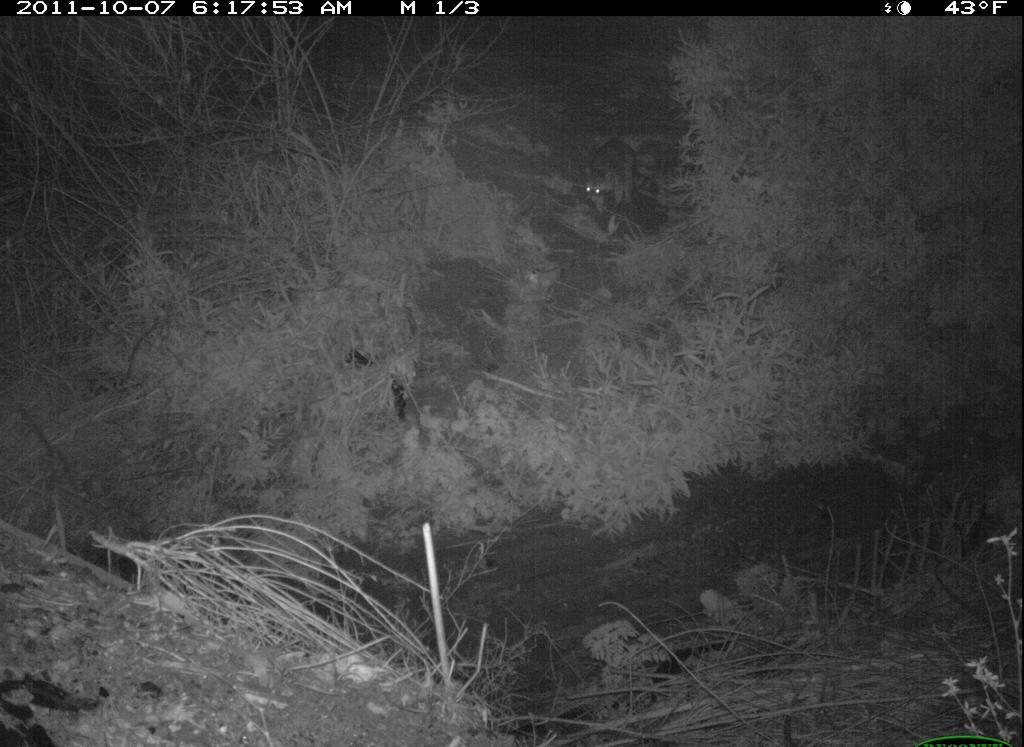raccoon: (573, 131, 652, 221)
